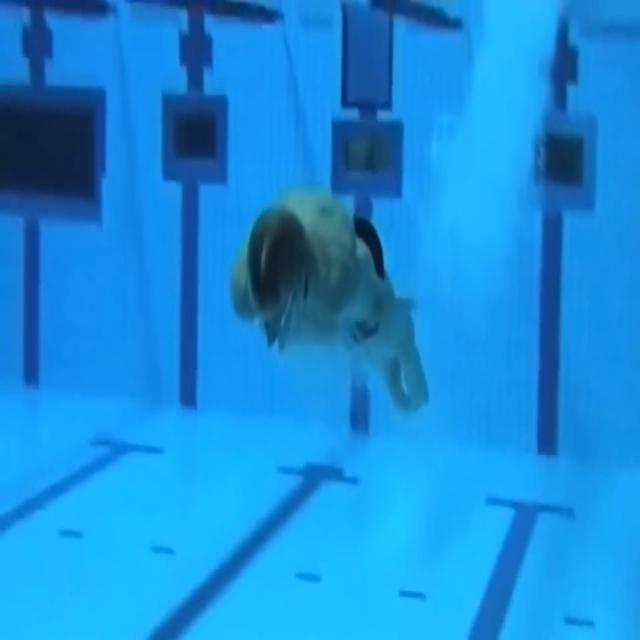Swimming: (231, 191, 428, 416)
